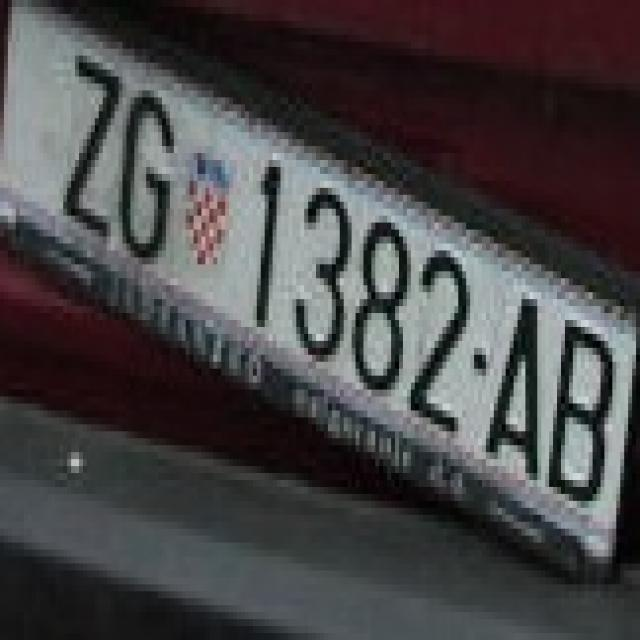1: (241, 146, 280, 327)
2: (411, 236, 470, 432)
3: (292, 167, 344, 369)
8: (352, 194, 407, 390)
A: (486, 285, 545, 480)
B: (546, 299, 608, 522)
G: (118, 70, 178, 264)
Z: (55, 42, 118, 250)
